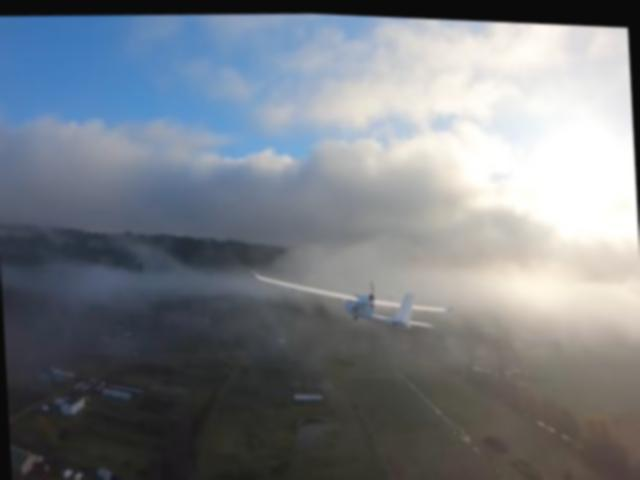uav: (244, 247, 465, 354)
